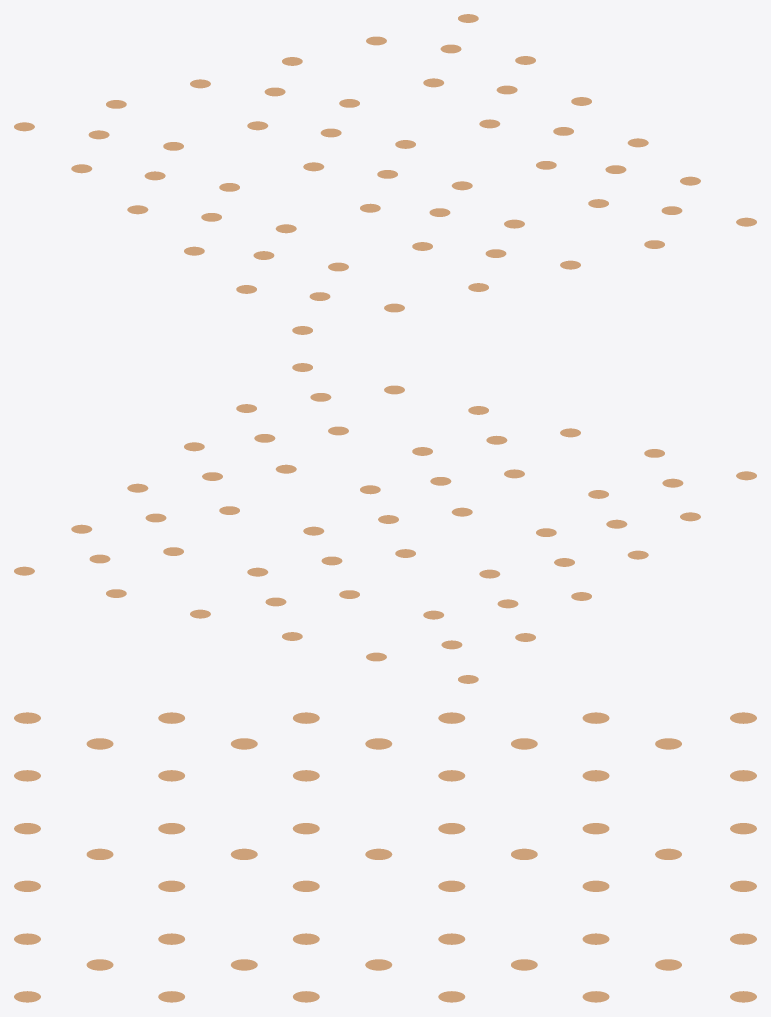
Rendered from seeds.fbx.
3 renders of one model, top to bottom at view 1: azimuth 30°, elevation 25°; view 2: azimuth 150°, elevation 25°; view 3: azimuth 270°, elevation 25°, orthographic. The views are drawn at different scales.
Parts seen in each view (by area): view 1: Seeds; view 2: Seeds; view 3: Seeds.
Part boxes in pixels (x1,y1,x2,y2): Seeds: (14, 14, 756, 334); Seeds: (14, 363, 756, 683); Seeds: (14, 712, 756, 1002).
Bounding box in the file's own units: 153 × 0.6816 × 165.
